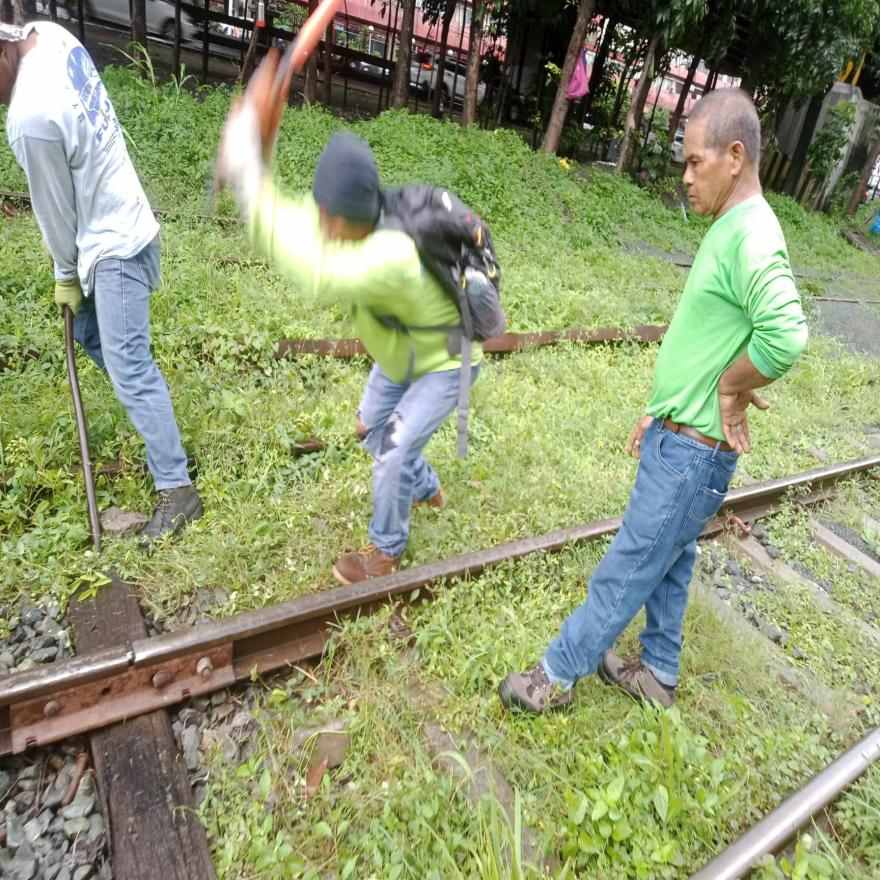railway-gap: (96, 613, 163, 706)
